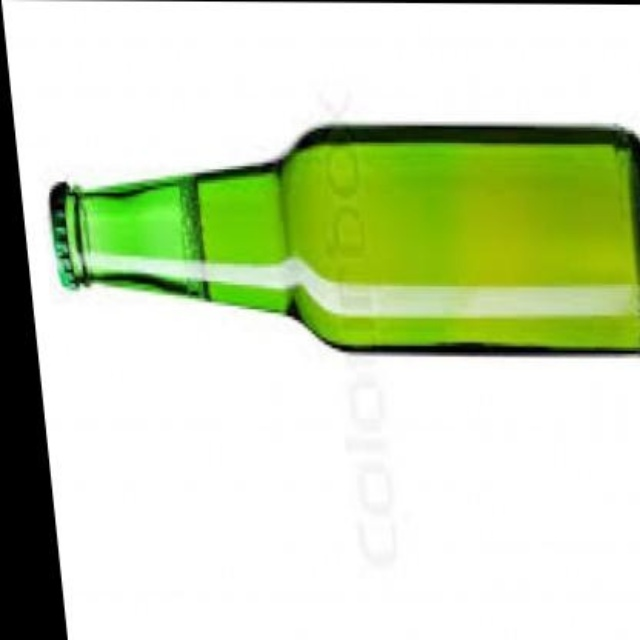trash: (51, 125, 638, 349)
